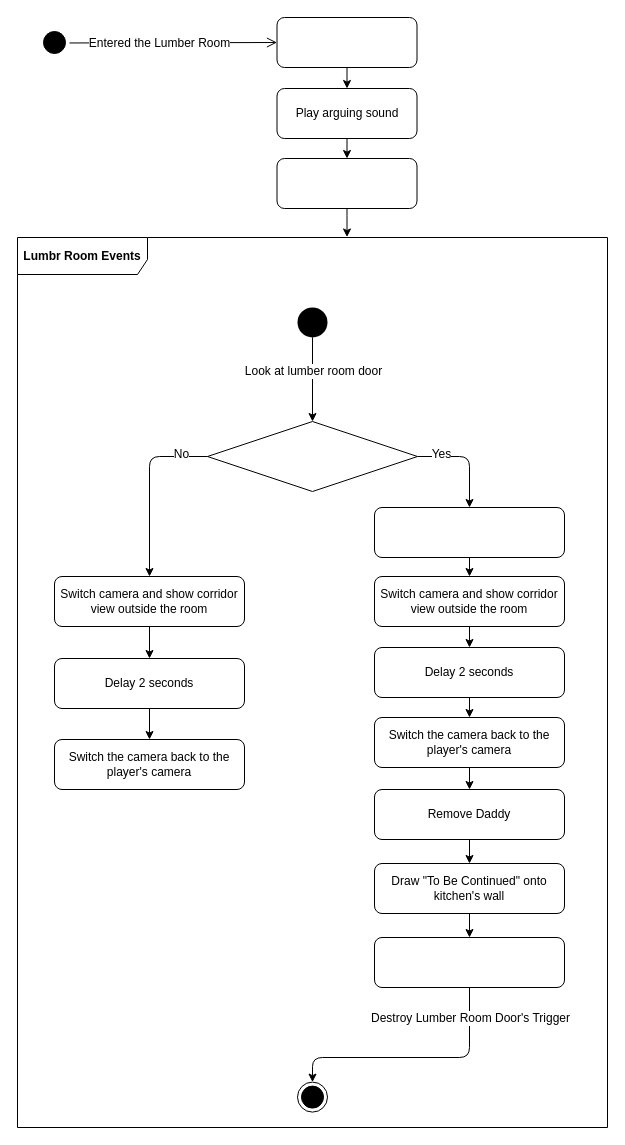
The diagram is 625 pixels wide and 1145 high, and some of its shapes have lost their labels. Here are the shapes that lost their labels. From the top down, the centre of each, then its label:
pixel 346 42: Door locked
pixel 346 183: Door shake with knocking sound
pixel 312 456: Peek the door once already?
pixel 469 532: Move Daddy out of lumber room's door
pixel 469 962: Open door
